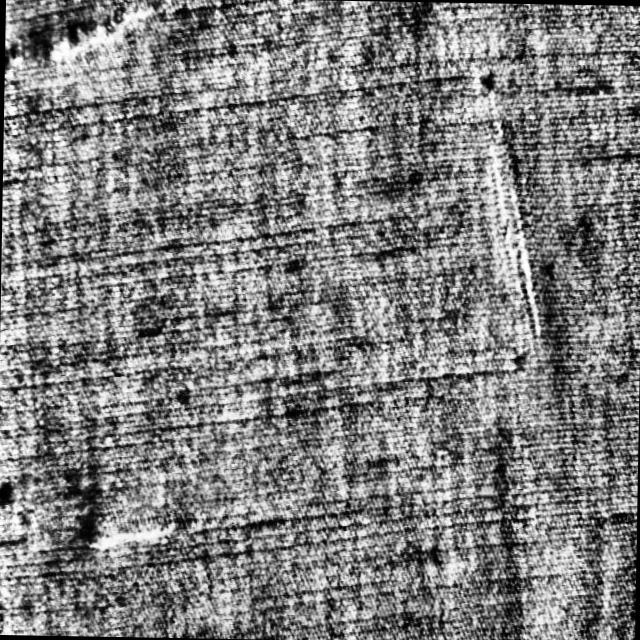gray stitch: (480, 109, 548, 360), (4, 0, 159, 76), (76, 486, 181, 558)
